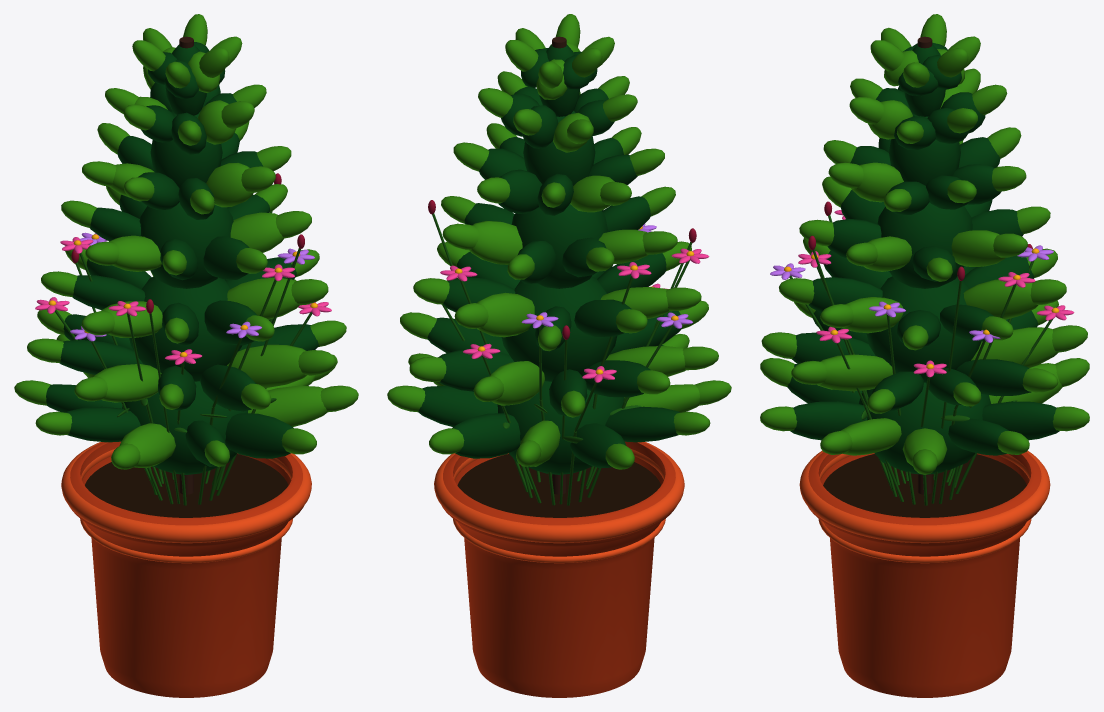
3 renders of one model, left to right at view 1: azimuth 30°, elevation 25°; view 2: azimuth 150°, elevation 25°; view 3: azimuth 270°, elevation 25°, orthographic.
Parts seen in each view (by area): view 1: /Asset/Links/central_conifer/Visuals/fresh_green_tips/Geom/m, /Asset/Links/central_conifer/Visuals/deep_green_needles/Geom, /Asset/Links/planter_shell/Visuals/tapered_hollow_planter_sh, /Asset/Links/soil_rootball/Visuals/visible_soil_surface/Geom, /Asset/Links/planter_shell/Visuals/rolled_rim/Geom/mesh, /Asset/Links/companion_flowers/Visuals/flower_stems/Geom/mes, /Asset/Links/companion_flowers/Visuals/pink_petals/Geom/mesh, /Asset/Links/planter_shell/Visuals/raised_body_band/Geom/mes, /Asset/Links/companion_flowers/Visuals/lavender_petals/Geom/; view 2: /Asset/Links/central_conifer/Visuals/deep_green_needles/Geom, /Asset/Links/central_conifer/Visuals/fresh_green_tips/Geom/m, /Asset/Links/planter_shell/Visuals/tapered_hollow_planter_sh, /Asset/Links/soil_rootball/Visuals/visible_soil_surface/Geom, /Asset/Links/planter_shell/Visuals/rolled_rim/Geom/mesh, /Asset/Links/companion_flowers/Visuals/flower_stems/Geom/mes, /Asset/Links/companion_flowers/Visuals/pink_petals/Geom/mesh, /Asset/Links/planter_shell/Visuals/raised_body_band/Geom/mes, /Asset/Links/companion_flowers/Visuals/lavender_petals/Geom/; view 3: /Asset/Links/central_conifer/Visuals/deep_green_needles/Geom, /Asset/Links/central_conifer/Visuals/fresh_green_tips/Geom/m, /Asset/Links/planter_shell/Visuals/tapered_hollow_planter_sh, /Asset/Links/soil_rootball/Visuals/visible_soil_surface/Geom, /Asset/Links/planter_shell/Visuals/rolled_rim/Geom/mesh, /Asset/Links/companion_flowers/Visuals/flower_stems/Geom/mes, /Asset/Links/companion_flowers/Visuals/pink_petals/Geom/mesh, /Asset/Links/planter_shell/Visuals/raised_body_band/Geom/mes, /Asset/Links/companion_flowers/Visuals/lavender_petals/Geom/.
Part boxes in pixels (x1,y1,x2,y2): /Asset/Links/central_conifer/Visuals/fresh_green_tips/Geom/m: [14, 14, 358, 469]; /Asset/Links/central_conifer/Visuals/deep_green_needles/Geom: [46, 42, 318, 474]; /Asset/Links/planter_shell/Visuals/tapered_hollow_planter_sh: [69, 441, 303, 697]; /Asset/Links/soil_rootball/Visuals/visible_soil_surface/Geom: [85, 454, 288, 517]; /Asset/Links/planter_shell/Visuals/rolled_rim/Geom/mesh: [61, 442, 311, 543]; /Asset/Links/companion_flowers/Visuals/flower_stems/Geom/mes: [55, 211, 312, 505]; /Asset/Links/companion_flowers/Visuals/pink_petals/Geom/mesh: [35, 237, 331, 364]; /Asset/Links/planter_shell/Visuals/raised_body_band/Geom/mes: [80, 518, 292, 563]; /Asset/Links/companion_flowers/Visuals/lavender_petals/Geom/: [70, 232, 314, 341]; /Asset/Links/central_conifer/Visuals/deep_green_needles/Geom: [418, 44, 681, 474]; /Asset/Links/central_conifer/Visuals/fresh_green_tips/Geom/m: [387, 14, 731, 469]; /Asset/Links/planter_shell/Visuals/tapered_hollow_planter_sh: [442, 441, 676, 697]; /Asset/Links/soil_rootball/Visuals/visible_soil_surface/Geom: [457, 454, 660, 517]; /Asset/Links/planter_shell/Visuals/rolled_rim/Geom/mesh: [434, 442, 684, 543]; /Asset/Links/companion_flowers/Visuals/flower_stems/Geom/mes: [432, 213, 692, 505]; /Asset/Links/companion_flowers/Visuals/pink_petals/Geom/mesh: [440, 248, 709, 382]; /Asset/Links/planter_shell/Visuals/raised_body_band/Geom/mes: [453, 518, 665, 563]; /Asset/Links/companion_flowers/Visuals/lavender_petals/Geom/: [521, 224, 692, 328]; /Asset/Links/central_conifer/Visuals/deep_green_needles/Geom: [787, 42, 1059, 474]; /Asset/Links/central_conifer/Visuals/fresh_green_tips/Geom/m: [760, 14, 1089, 474]; /Asset/Links/planter_shell/Visuals/tapered_hollow_planter_sh: [808, 452, 1041, 697]; /Asset/Links/soil_rootball/Visuals/visible_soil_surface/Geom: [823, 454, 1026, 517]; /Asset/Links/planter_shell/Visuals/rolled_rim/Geom/mesh: [799, 450, 1050, 543]; /Asset/Links/companion_flowers/Visuals/flower_stems/Geom/mes: [789, 215, 1052, 505]; /Asset/Links/companion_flowers/Visuals/pink_petals/Geom/mesh: [798, 210, 1074, 377]; /Asset/Links/planter_shell/Visuals/raised_body_band/Geom/mes: [818, 518, 1031, 563]; /Asset/Links/companion_flowers/Visuals/lavender_petals/Geom/: [770, 245, 1053, 342].
Bounding box in the file's own units: 0.528 × 1.06 × 0.5026.
